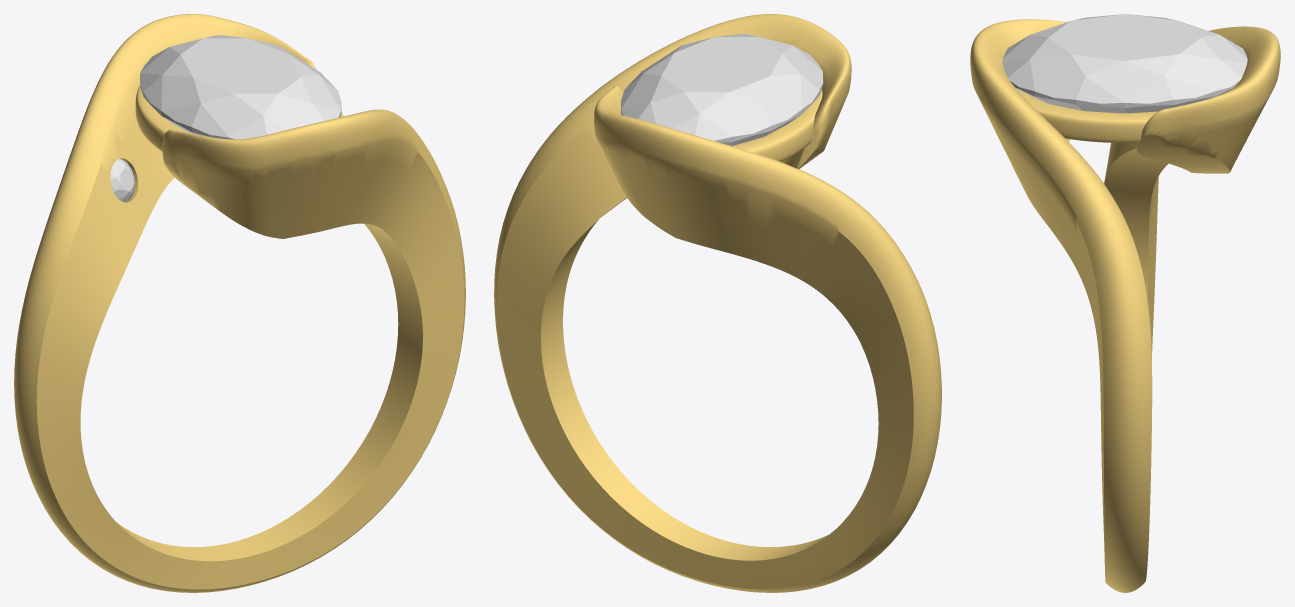
The model's file is JCv2eng_blender.glb.
3 renders of one model, left to right at view 1: azimuth 30°, elevation 25°; view 2: azimuth 150°, elevation 25°; view 3: azimuth 270°, elevation 25°, orthographic.
Parts seen in each view (by area): view 1: Version 2 JC YG for 3d model, Version 2 JC dia for CUT.002, Version 2 JC dia for CUT; view 2: Version 2 JC YG for 3d model, Version 2 JC dia for CUT.002; view 3: Version 2 JC YG for 3d model, Version 2 JC dia for CUT.002.
Boxes of the visible parts, x1=… form: Version 2 JC YG for 3d model: x1=14, y1=14, x2=465, y2=592; Version 2 JC dia for CUT.002: x1=140, y1=35, x2=341, y2=139; Version 2 JC dia for CUT: x1=110, y1=159, x2=135, y2=202; Version 2 JC YG for 3d model: x1=494, y1=14, x2=941, y2=592; Version 2 JC dia for CUT.002: x1=621, y1=33, x2=823, y2=145; Version 2 JC YG for 3d model: x1=970, y1=19, x2=1280, y2=592; Version 2 JC dia for CUT.002: x1=1002, y1=14, x2=1247, y2=113.
Bounding box in the file's own units: 23.11 × 25.95 × 13.84.
